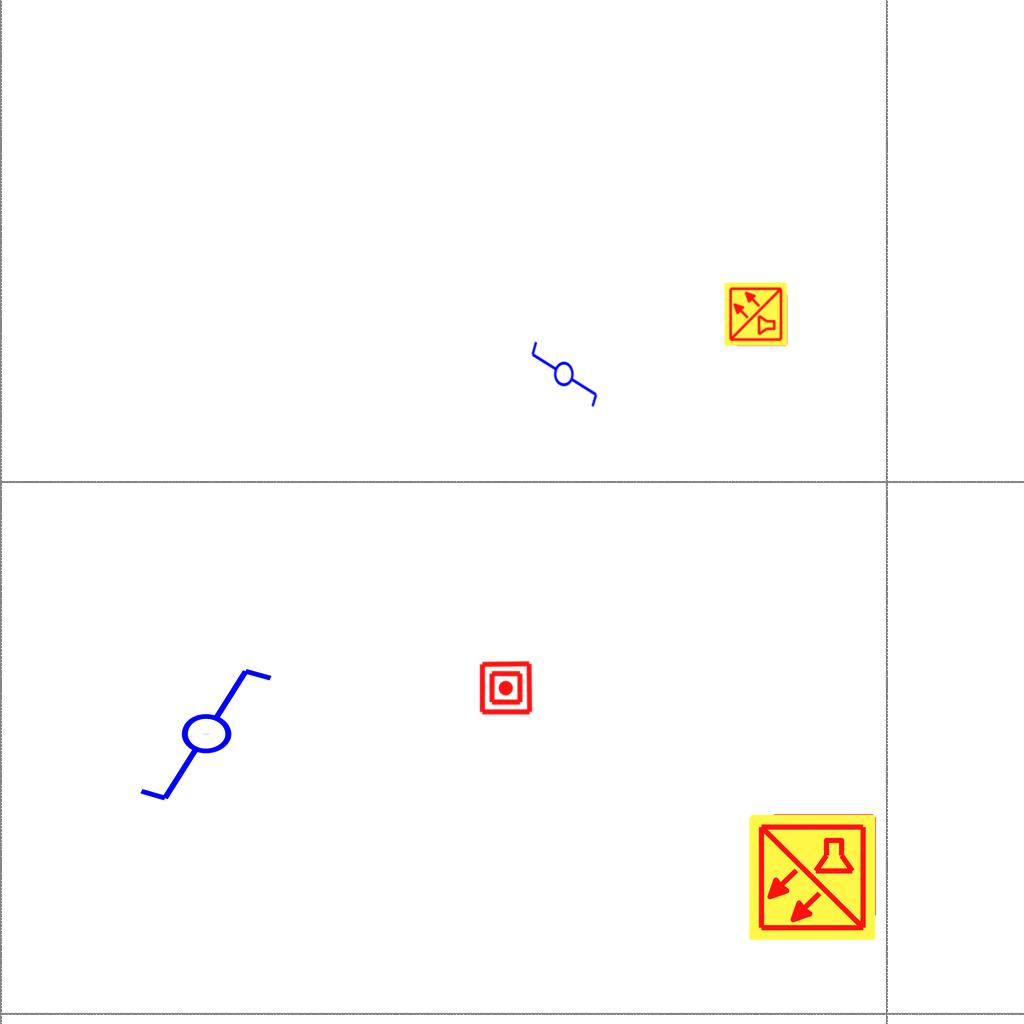NAM-Nichtautomatischer_Melder: (478, 660, 534, 716)
OKW_Multisensormelder_(Kombination_optischer_Rauch-Kahlenmonoxid_Waerme-Melder): (746, 811, 878, 943), (723, 281, 789, 347)
Wechselschalter: (136, 664, 293, 808), (529, 331, 601, 409)
